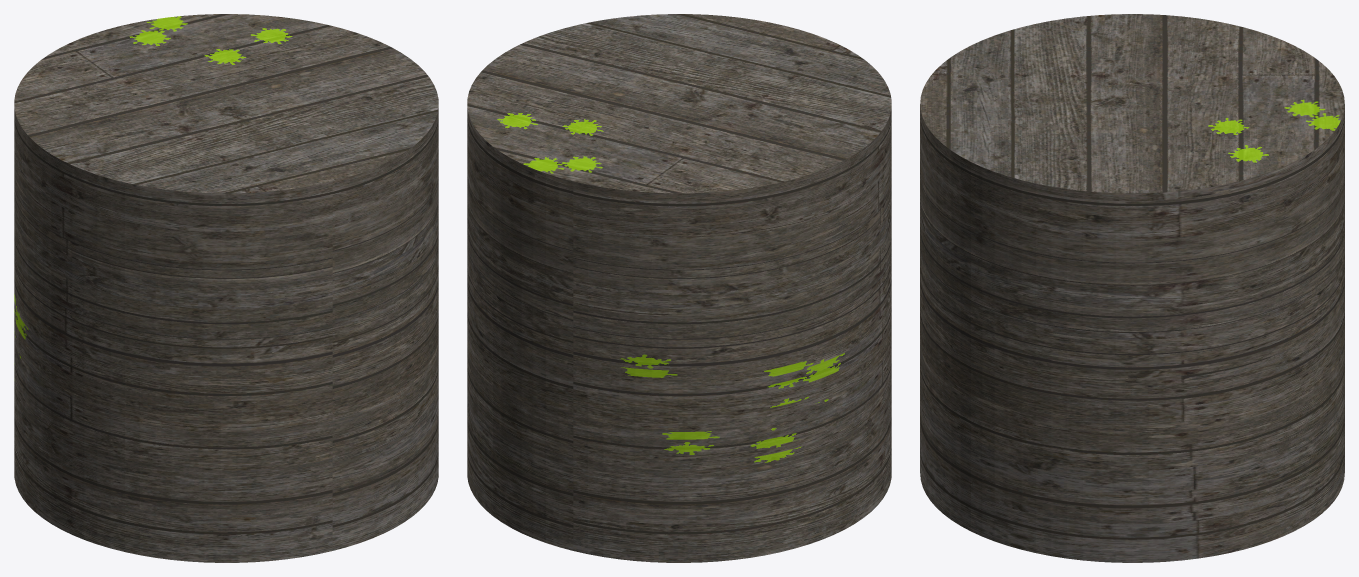
Rendered from UVwood.fbx.
3 views of the same model, side by side, from view 1: azimuth 30°, elevation 25°; view 2: azimuth 150°, elevation 25°; view 3: azimuth 270°, elevation 25° (orthographic).
Parts seen in each view (by area): view 1: UVCyclinder.047, UVCyclinder.045, UVCyclinder.035, UVCyclinder.015, UVCyclinder.005, UVCyclinder.025, UVCyclinder.029, UVCyclinder.039, UVCyclinder.006, UVCyclinder.009, UVCyclinder.019, UVCyclinder.022 (+36 smaller); view 2: UVCyclinder.047, UVCyclinder.045, UVCyclinder.035, UVCyclinder.015, UVCyclinder.005, UVCyclinder.025, UVCyclinder.029, UVCyclinder.039, UVCyclinder.006, UVCyclinder.009, UVCyclinder.019, UVCyclinder.022 (+36 smaller); view 3: UVCyclinder.047, UVCyclinder.035, UVCyclinder.015, UVCyclinder.002, UVCyclinder.045, UVCyclinder.025, UVCyclinder.009, UVCyclinder.012, UVCyclinder.005, UVCyclinder.029, UVCyclinder.028, UVCyclinder.041 (+36 smaller).
Part boxes in pixels (x1=…): UVCyclinder.047: x1=14, y1=14, x2=438, y2=200; UVCyclinder.045: x1=14, y1=123, x2=438, y2=216; UVCyclinder.035: x1=14, y1=200, x2=438, y2=293; UVCyclinder.015: x1=14, y1=354, x2=438, y2=447; UVCyclinder.005: x1=14, y1=431, x2=438, y2=524; UVCyclinder.025: x1=14, y1=277, x2=438, y2=370; UVCyclinder.029: x1=14, y1=247, x2=438, y2=339; UVCyclinder.039: x1=14, y1=170, x2=438, y2=262; UVCyclinder.006: x1=14, y1=424, x2=438, y2=516; UVCyclinder.009: x1=14, y1=401, x2=438, y2=493; UVCyclinder.019: x1=14, y1=324, x2=438, y2=416; UVCyclinder.022: x1=14, y1=300, x2=438, y2=393; UVCyclinder.047: x1=467, y1=14, x2=891, y2=200; UVCyclinder.045: x1=467, y1=123, x2=891, y2=216; UVCyclinder.035: x1=467, y1=200, x2=891, y2=293; UVCyclinder.015: x1=467, y1=354, x2=891, y2=447; UVCyclinder.005: x1=467, y1=431, x2=891, y2=524; UVCyclinder.025: x1=467, y1=277, x2=891, y2=370; UVCyclinder.029: x1=467, y1=247, x2=891, y2=339; UVCyclinder.039: x1=467, y1=170, x2=891, y2=262; UVCyclinder.006: x1=467, y1=424, x2=891, y2=516; UVCyclinder.009: x1=467, y1=401, x2=891, y2=493; UVCyclinder.019: x1=467, y1=324, x2=891, y2=416; UVCyclinder.022: x1=467, y1=300, x2=891, y2=393; UVCyclinder.047: x1=920, y1=14, x2=1344, y2=201; UVCyclinder.035: x1=920, y1=196, x2=1344, y2=293; UVCyclinder.015: x1=920, y1=350, x2=1344, y2=447; UVCyclinder.002: x1=920, y1=450, x2=1344, y2=547; UVCyclinder.045: x1=920, y1=119, x2=1344, y2=216; UVCyclinder.025: x1=920, y1=273, x2=1344, y2=370; UVCyclinder.009: x1=920, y1=396, x2=1344, y2=493; UVCyclinder.012: x1=920, y1=373, x2=1344, y2=470; UVCyclinder.005: x1=920, y1=427, x2=1344, y2=524; UVCyclinder.029: x1=920, y1=242, x2=1344, y2=339; UVCyclinder.028: x1=920, y1=250, x2=1344, y2=347; UVCyclinder.041: x1=920, y1=150, x2=1344, y2=247.
Size of the model in its own units: 200 by 192 by 200.
